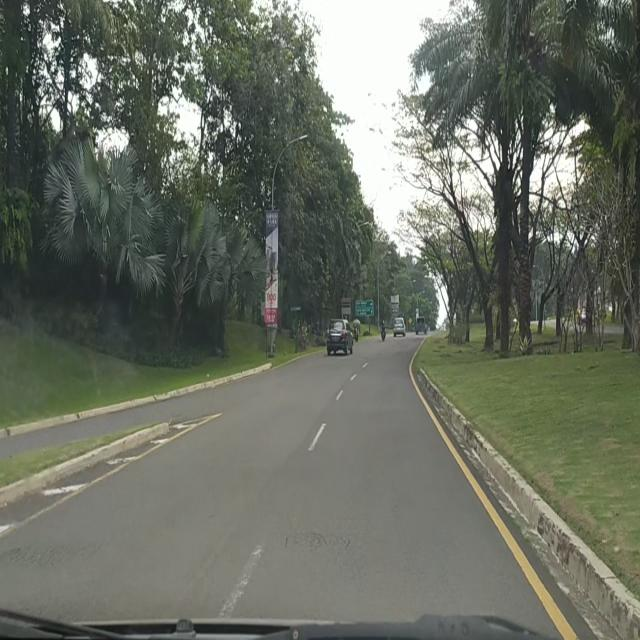Drain Hole: (279, 514, 357, 562), (0, 538, 84, 573)
